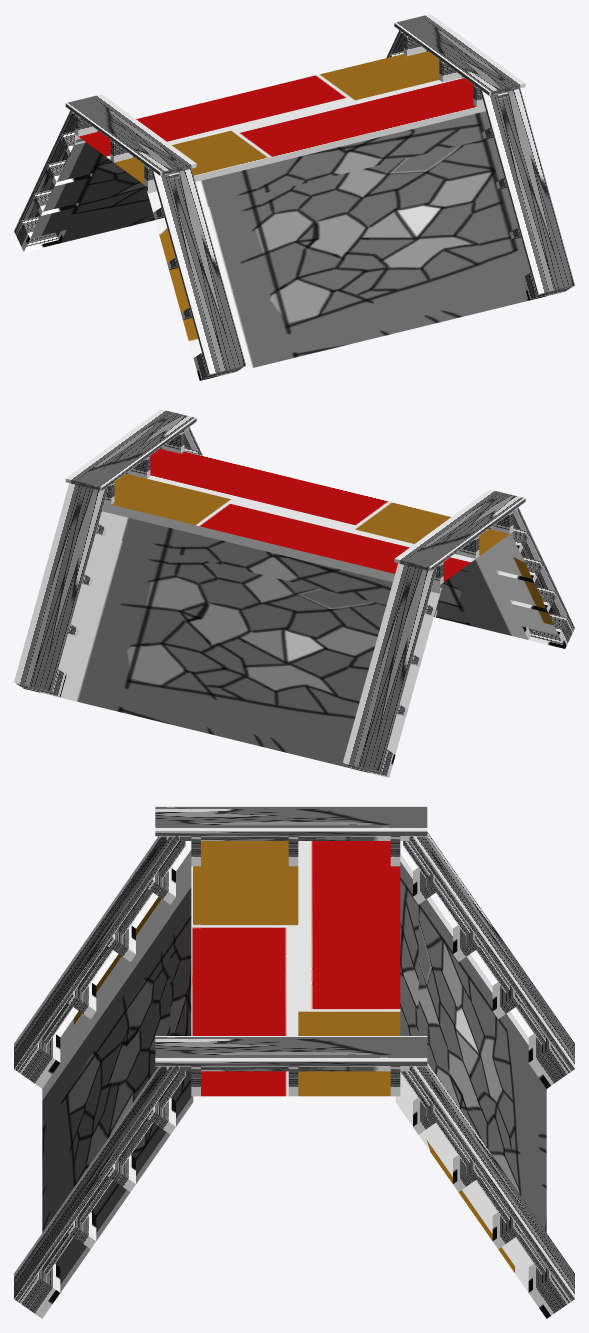
File: broken_bridge2.fbx
3 renders of one model, top to bottom at view 1: azimuth 30°, elevation 25°; view 2: azimuth 150°, elevation 25°; view 3: azimuth 270°, elevation 25°, orthographic. The views are drawn at different scales.
Parts seen in each view (by area): view 1: broken_bridge2; view 2: broken_bridge2; view 3: broken_bridge2.
Boxes of the visible parts, x1=… form: broken_bridge2: x1=14, y1=14, x2=574, y2=380; broken_bridge2: x1=14, y1=409, x2=574, y2=777; broken_bridge2: x1=14, y1=806, x2=574, y2=1318.
Size of the model in its own units: 1043 by 490 by 967.
